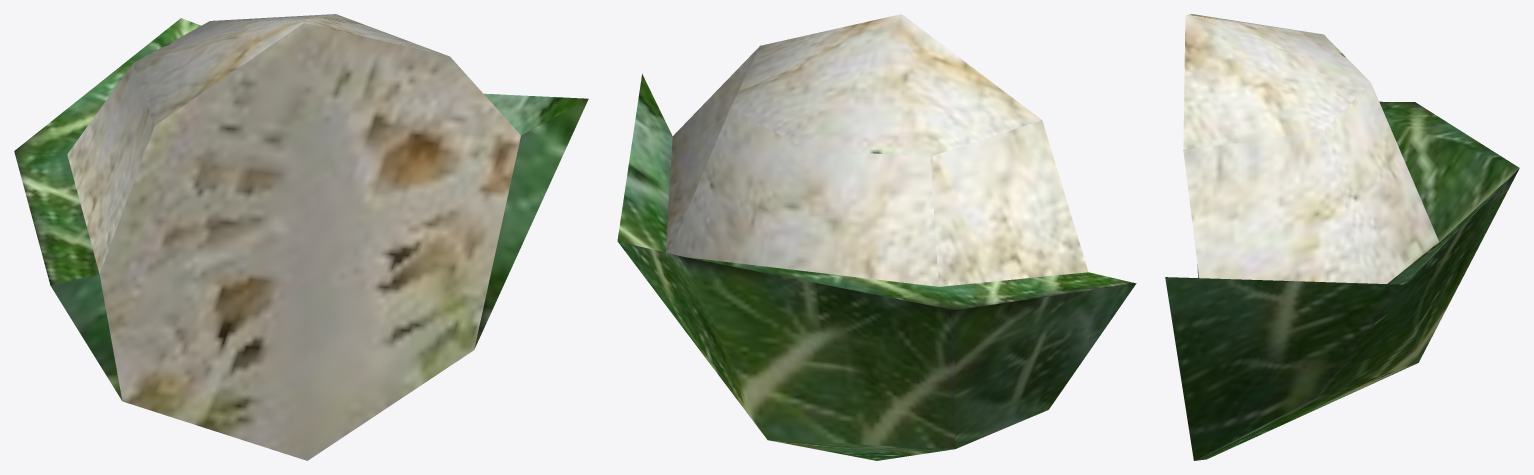
The model's file is Cauliflower_01.glb.
3 renders of one model, left to right at view 1: azimuth 30°, elevation 25°; view 2: azimuth 150°, elevation 25°; view 3: azimuth 270°, elevation 25°, orthographic. The views are drawn at different scales.
Parts seen in each view (by area): view 1: Cauliflower_01; view 2: Cauliflower_01; view 3: Cauliflower_01.
Boxes of the visible parts, x1=… form: Cauliflower_01: x1=14, y1=14, x2=588, y2=460; Cauliflower_01: x1=617, y1=14, x2=1136, y2=460; Cauliflower_01: x1=1165, y1=14, x2=1519, y2=460.
Bounding box in the file's own units: 0.365 × 0.3014 × 0.2215.
Materials: 1 (1 with a texture image).
